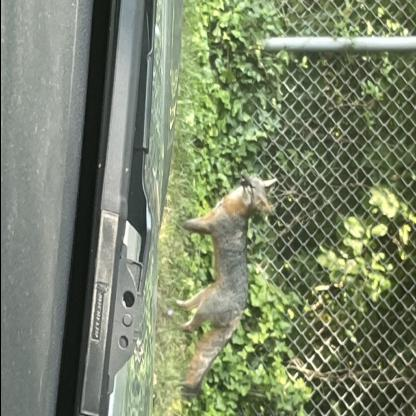zorro: (168, 163, 283, 402)
